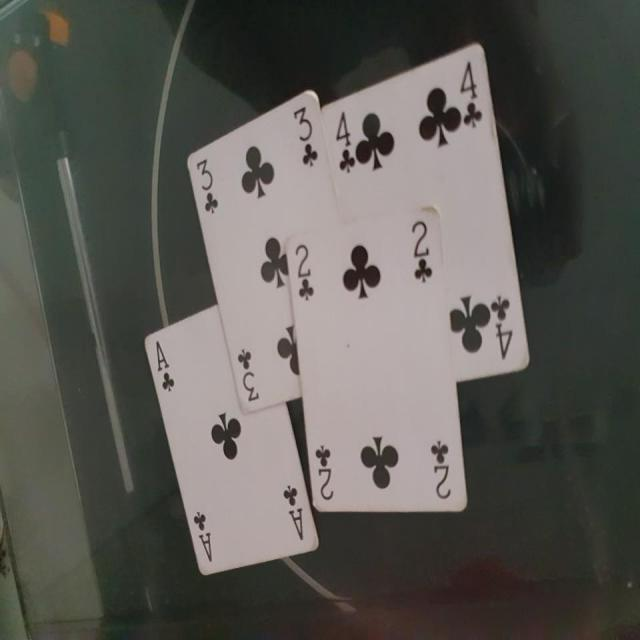2 of clubs: (286, 208, 470, 512)
3 of clubs: (185, 91, 342, 414)
4 of clubs: (317, 42, 533, 385)
ace of clubs: (142, 310, 320, 579)
